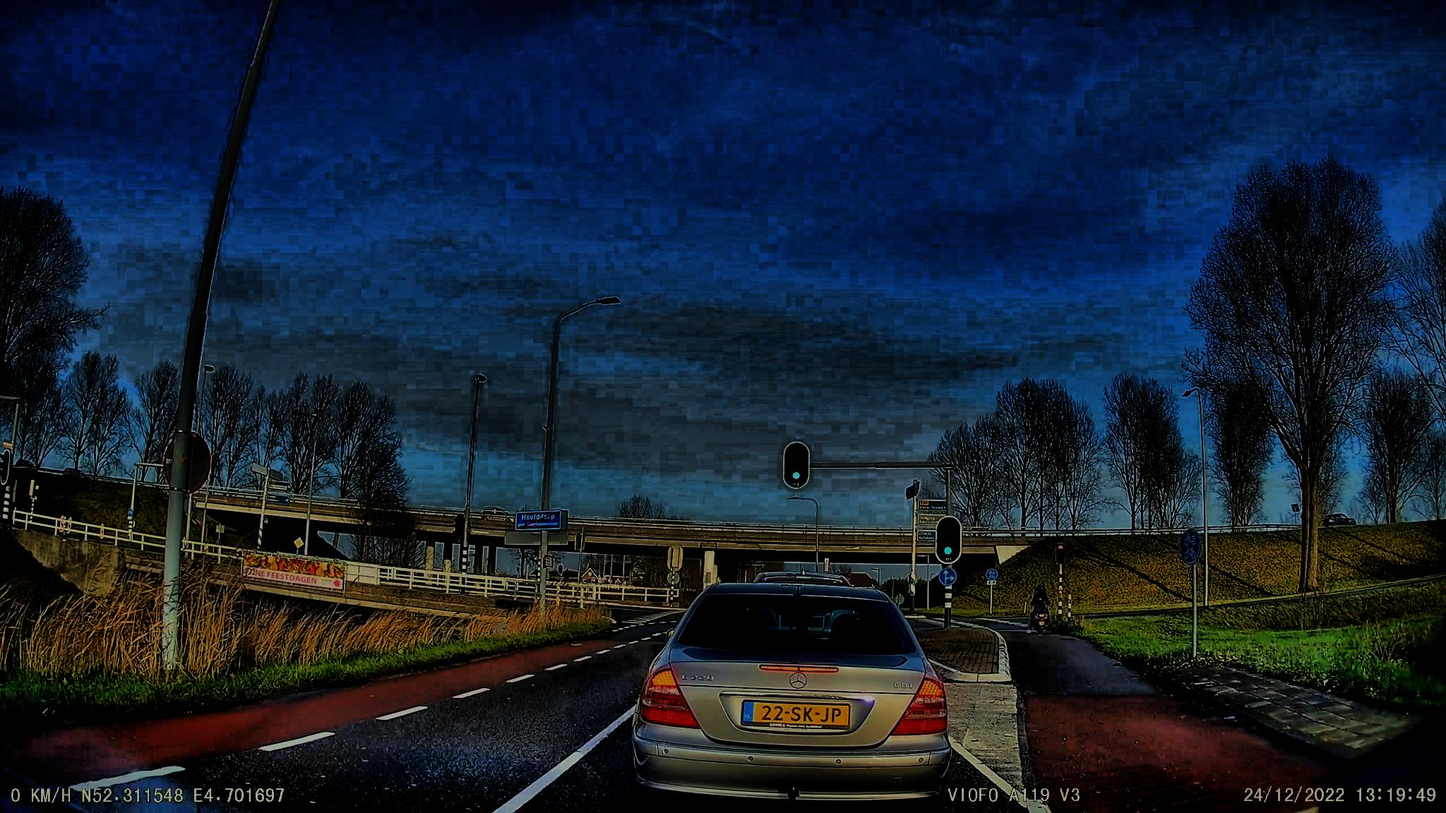Roads: (0, 639, 663, 813)
